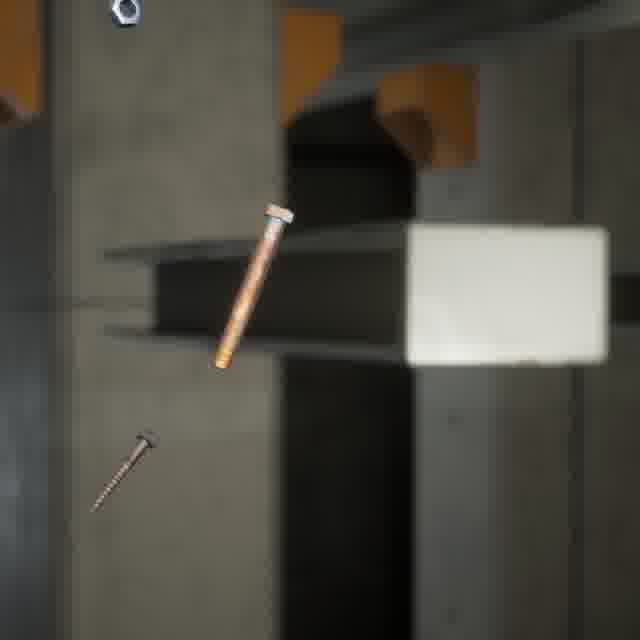bolt: (208, 199, 298, 374), (85, 424, 162, 517)
nut: (102, 0, 147, 32)
